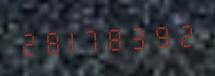eight: (39, 23, 60, 58), (105, 20, 126, 54)
nine: (149, 17, 170, 52)
one: (61, 22, 82, 57)
seven: (83, 21, 104, 56)
three: (127, 18, 148, 53)
two: (17, 24, 38, 59), (171, 16, 192, 51)
